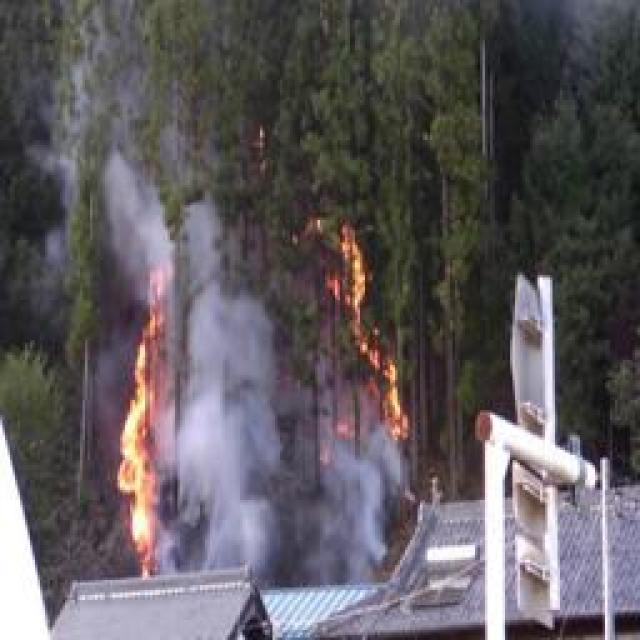Fire: (298, 217, 412, 469), (108, 264, 170, 581)
Smoke: (88, 151, 412, 585)
